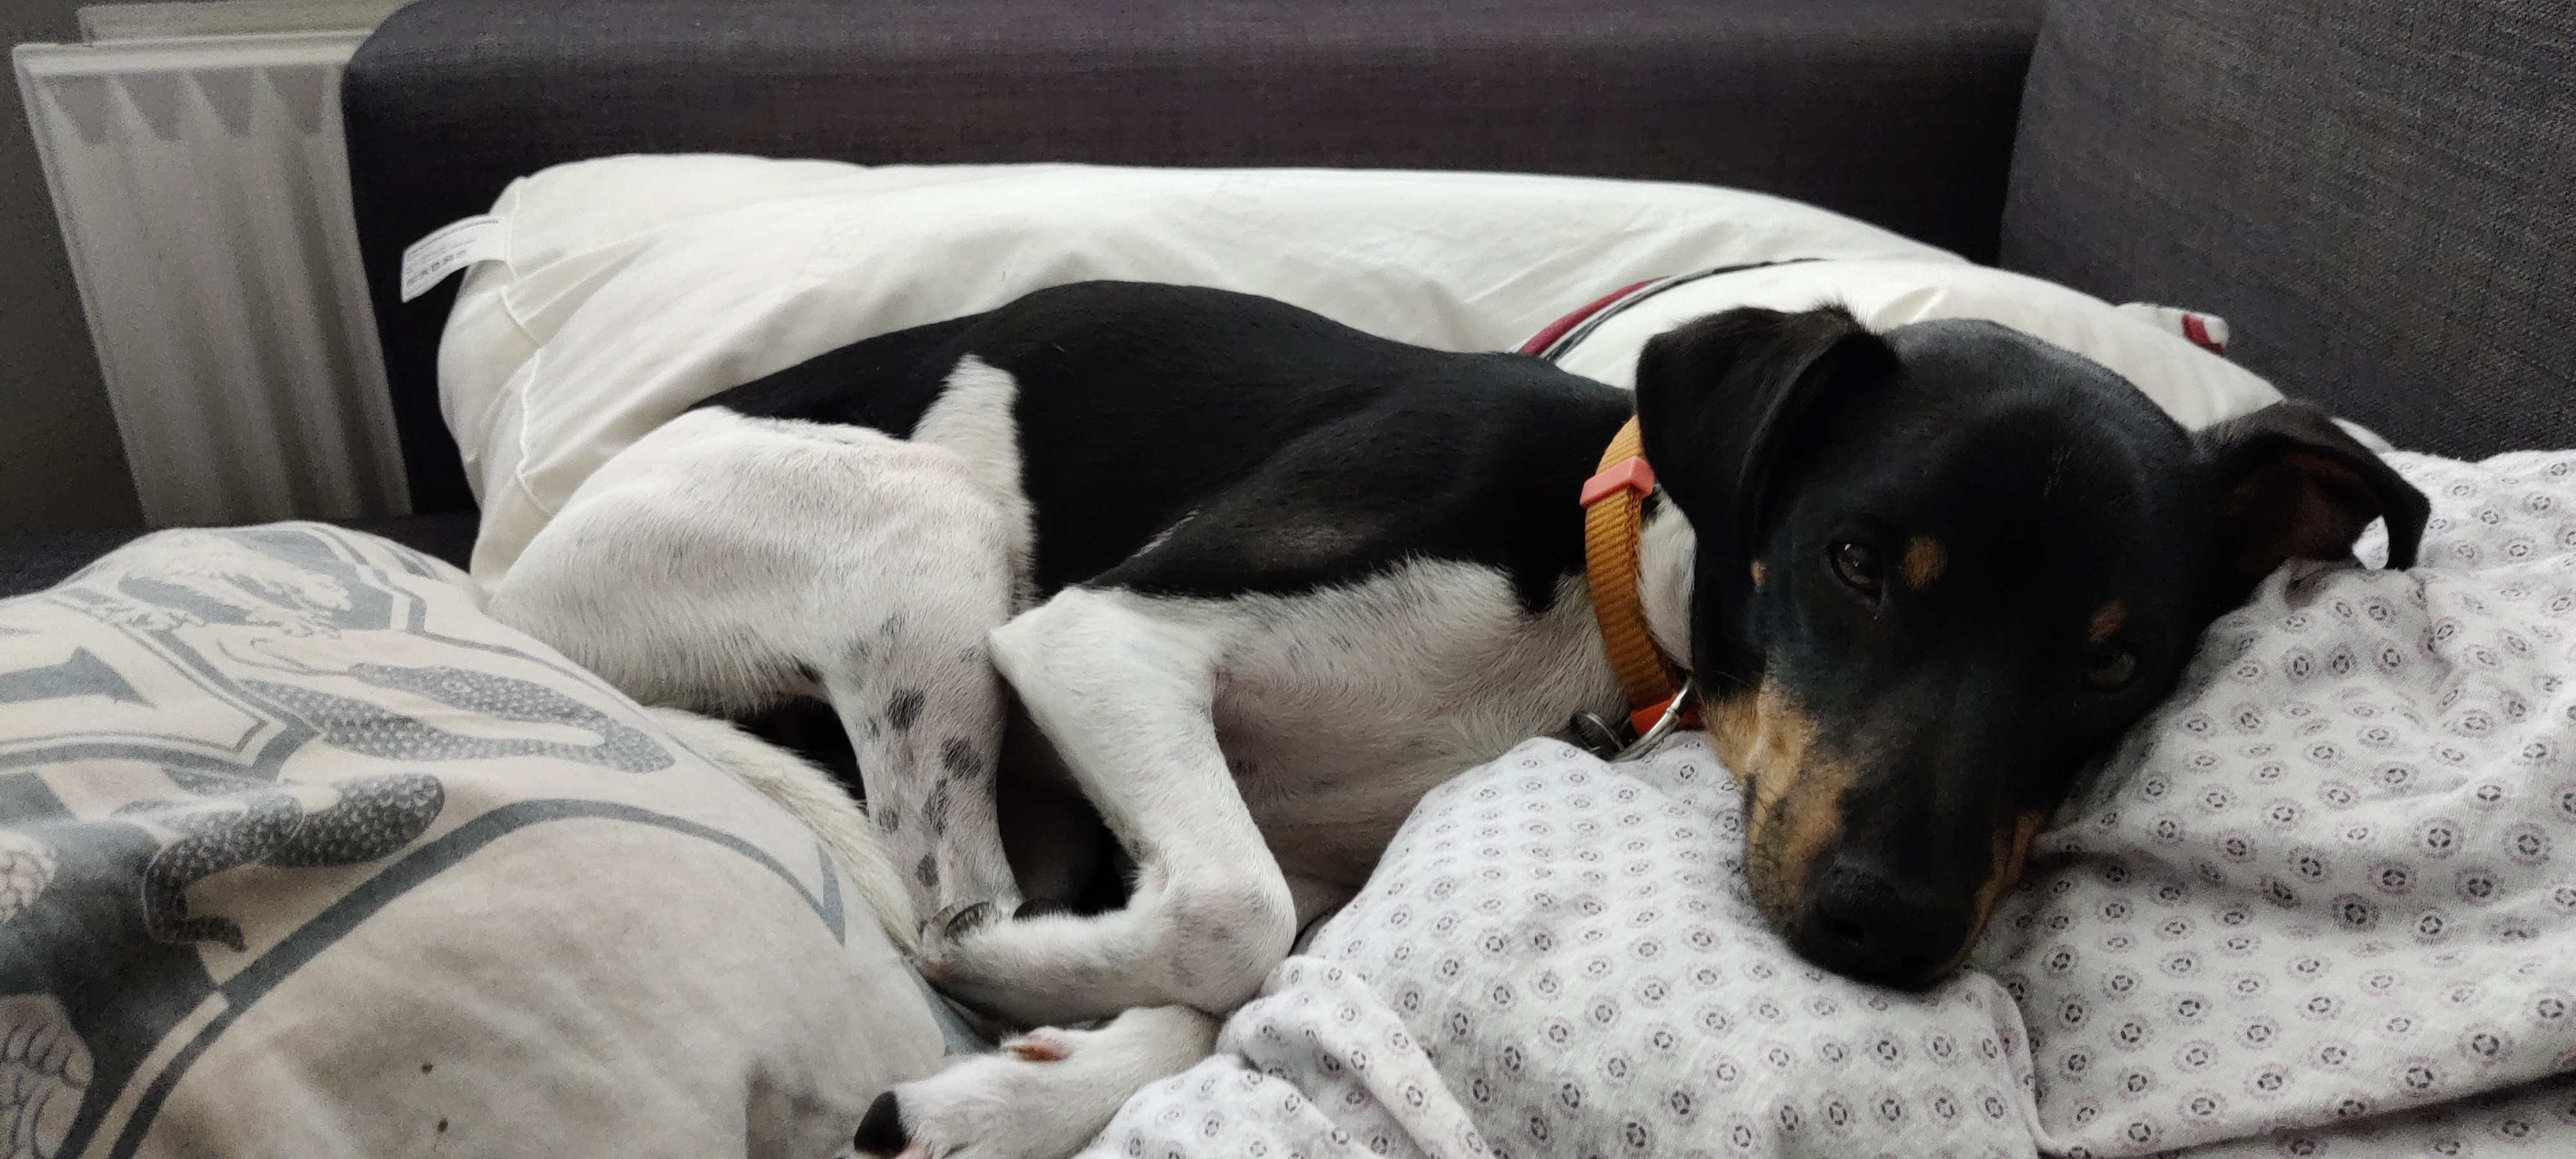Dog: (468, 279, 2435, 1159)
